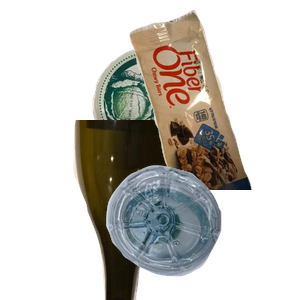glass: (71, 120, 254, 300)
metal: (90, 44, 289, 195)
plastic: (104, 163, 300, 300)
trash: (127, 10, 300, 190)
